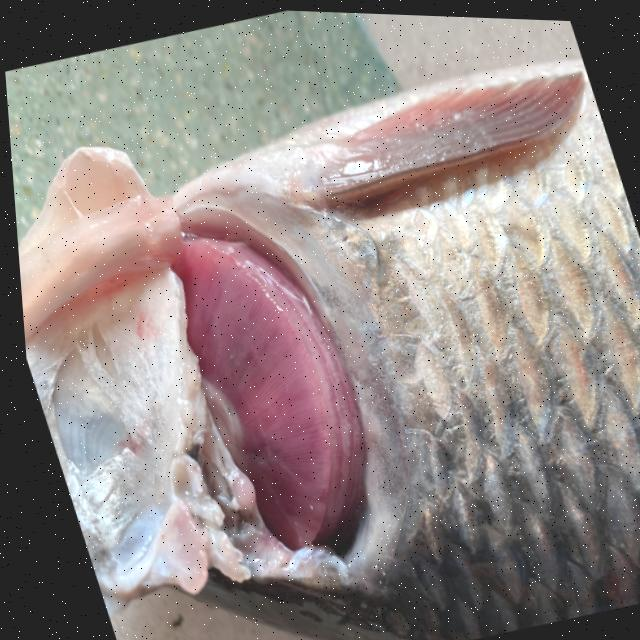Fresh: (128, 105, 436, 575)
